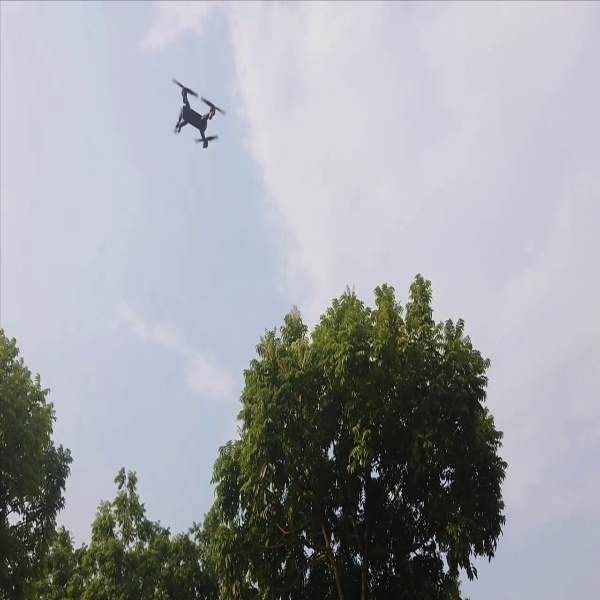drone: (162, 74, 232, 150)
